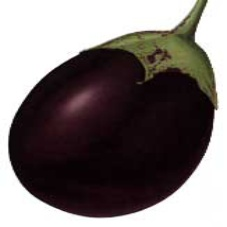eggplant: (8, 31, 219, 220)
